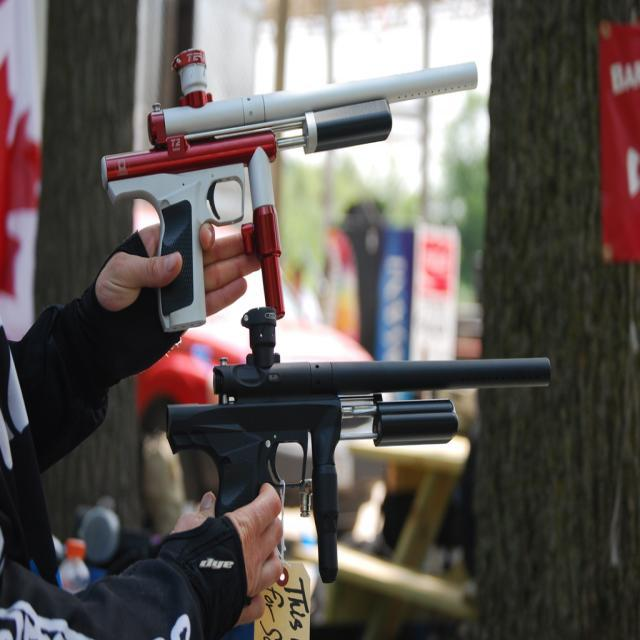weapon: (100, 48, 478, 334), (169, 310, 552, 586)
